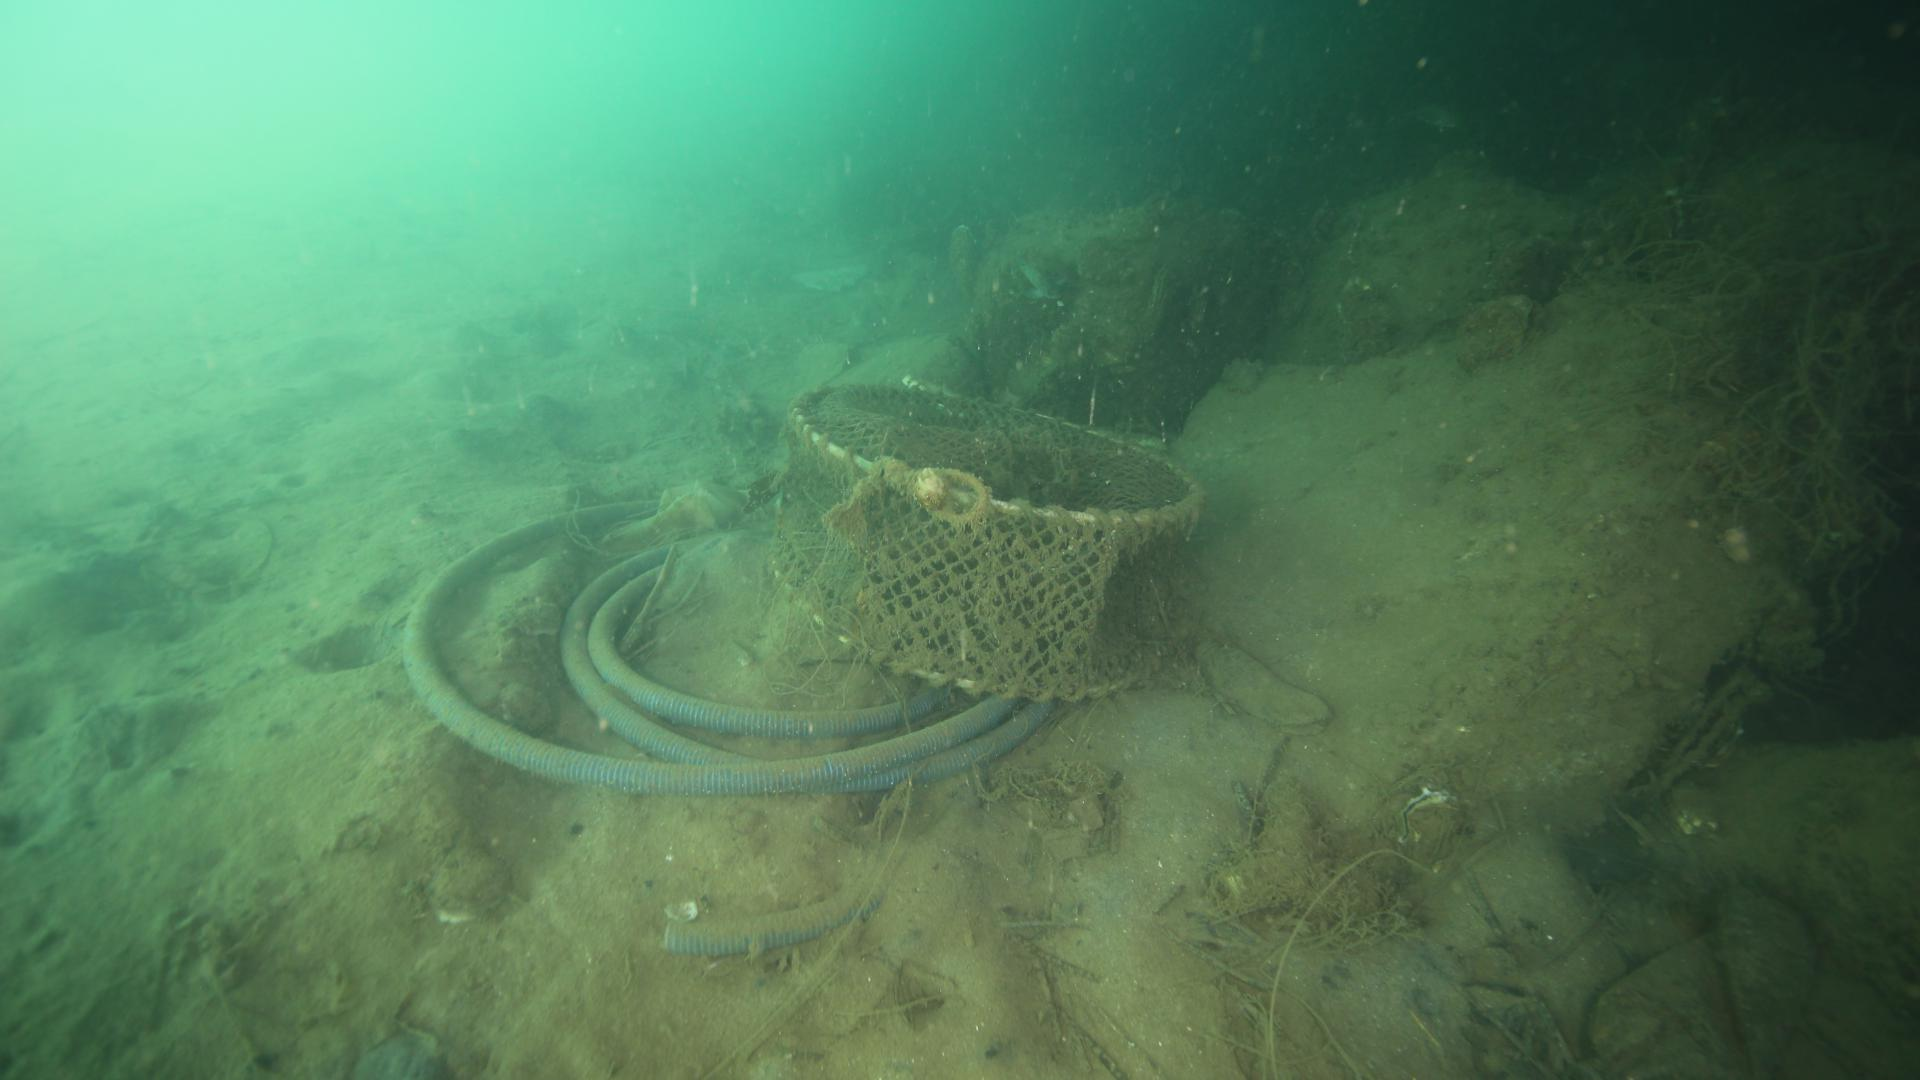circular fish trap: (773, 375, 1209, 705)
